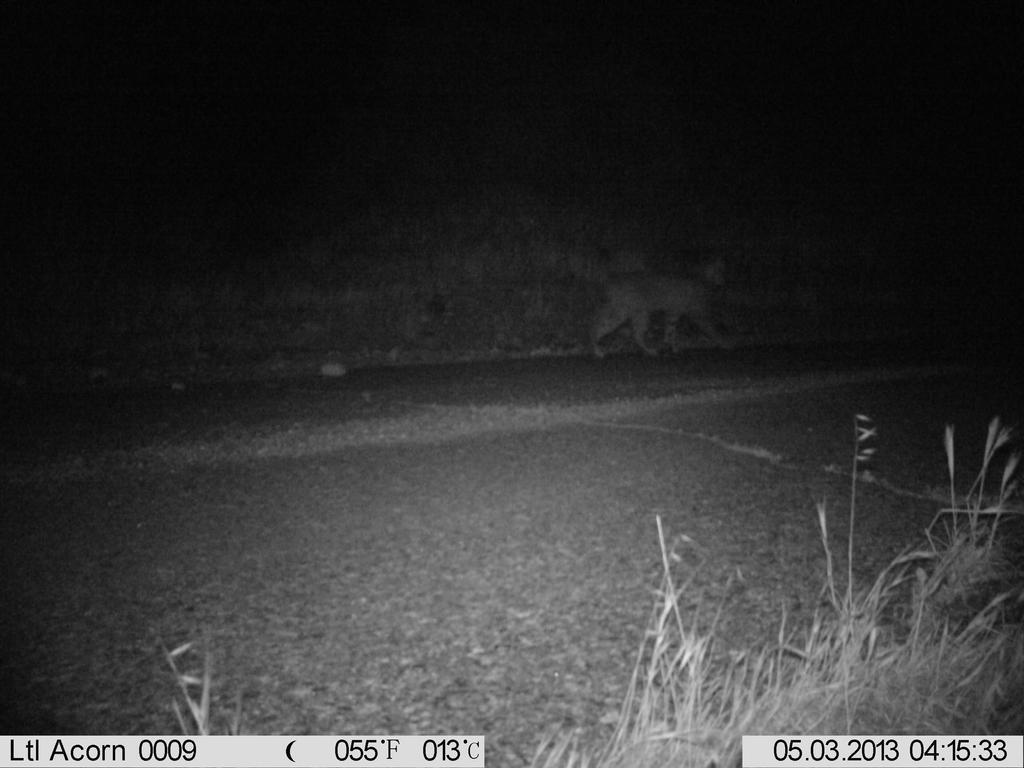bobcat: (567, 251, 762, 370)
